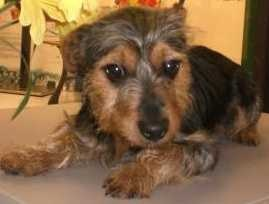dog: (42, 9, 228, 172)
